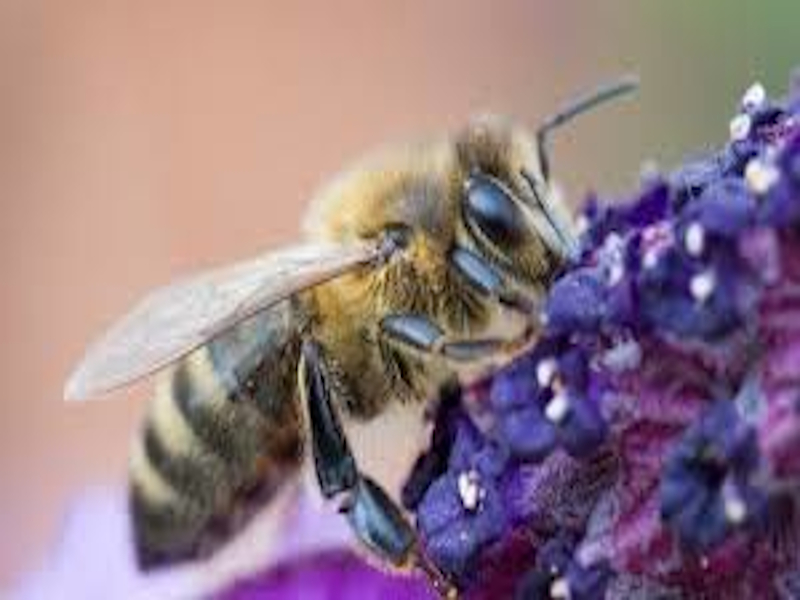abeja: (54, 59, 671, 600)
